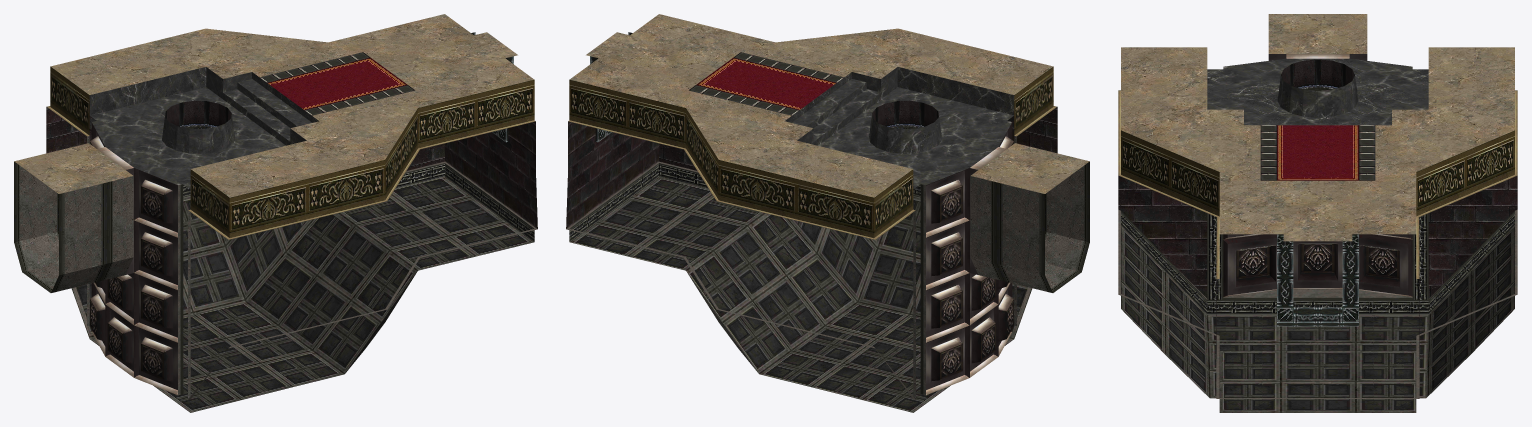
The picture shows the model from 3 angles, left to right: view 1: azimuth 30°, elevation 25°; view 2: azimuth 150°, elevation 25°; view 3: azimuth 270°, elevation 25°; orthographic projection. The views are drawn at different scales.
Visible parts, largest first — view 1: node-00C889BB, node-0305AE92, node-00CC3C75, node-025978A3, node-032E201F, node-030CD793, node-03739432, node-024F2BBF, node-009F2118, node-01253DBF, node-019829D9; view 2: node-00C889BB, node-0305AE92, node-00CC3C75, node-025978A3, node-032E201F, node-030CD793, node-03739432, node-024F2BBF, node-009F2118, node-01253DBF, node-019829D9; view 3: node-0305AE92, node-00C889BB, node-025978A3, node-03739432, node-00CC3C75, node-030CD793, node-009F2118, node-024F2BBF, node-03332329, node-032E201F, node-01253DBF, node-019829D9.
Boxes of the visible parts, bbox=[...] form: node-00C889BB: bbox=[71, 176, 533, 412]; node-0305AE92: bbox=[14, 14, 533, 197]; node-00CC3C75: bbox=[47, 66, 535, 239]; node-025978A3: bbox=[89, 67, 318, 188]; node-032E201F: bbox=[14, 136, 537, 399]; node-030CD793: bbox=[90, 122, 177, 395]; node-03739432: bbox=[46, 107, 537, 228]; node-024F2BBF: bbox=[267, 57, 407, 110]; node-009F2118: bbox=[183, 163, 534, 241]; node-01253DBF: bbox=[260, 52, 414, 115]; node-019829D9: bbox=[165, 100, 231, 127]; node-00C889BB: bbox=[570, 176, 1032, 412]; node-0305AE92: bbox=[570, 14, 1089, 197]; node-00CC3C75: bbox=[568, 66, 1056, 239]; node-025978A3: bbox=[785, 67, 1014, 188]; node-032E201F: bbox=[566, 136, 1089, 399]; node-030CD793: bbox=[926, 122, 1013, 395]; node-03739432: bbox=[566, 107, 1057, 228]; node-024F2BBF: bbox=[696, 57, 836, 110]; node-009F2118: bbox=[569, 163, 920, 241]; node-01253DBF: bbox=[689, 52, 843, 115]; node-019829D9: bbox=[872, 100, 938, 127]; node-0305AE92: bbox=[1121, 14, 1514, 241]; node-00C889BB: bbox=[1121, 226, 1514, 412]; node-025978A3: bbox=[1207, 58, 1428, 125]; node-03739432: bbox=[1118, 175, 1517, 358]; node-00CC3C75: bbox=[1118, 90, 1517, 278]; node-030CD793: bbox=[1223, 54, 1412, 297]; node-009F2118: bbox=[1121, 211, 1514, 314]; node-024F2BBF: bbox=[1277, 125, 1358, 180]; node-03332329: bbox=[1277, 234, 1358, 326]; node-032E201F: bbox=[1118, 209, 1517, 398]; node-01253DBF: bbox=[1260, 125, 1375, 180]; node-019829D9: bbox=[1281, 59, 1354, 89].
Size of the model in its own units: 283 by 143 by 192.
Materials: 14 (14 with a texture image).
